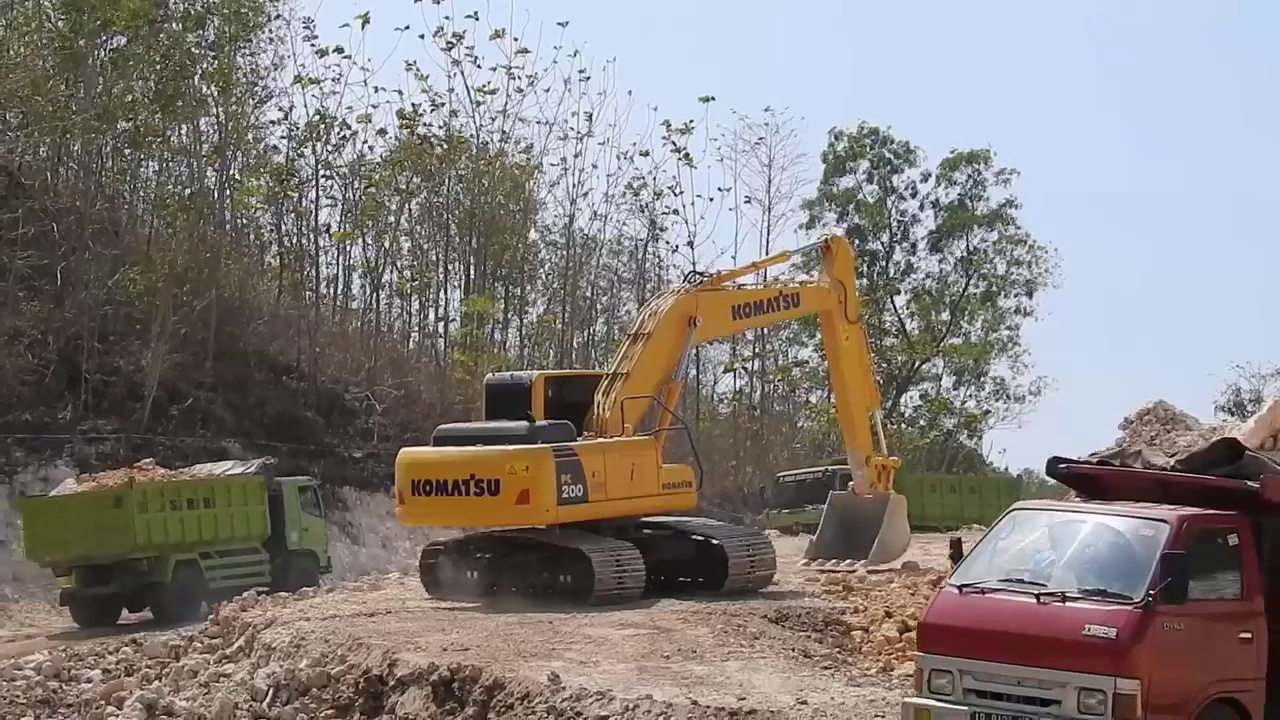excavator: (389, 226, 917, 613)
truck: (892, 431, 1278, 720), (15, 454, 340, 630), (753, 452, 1027, 575)
